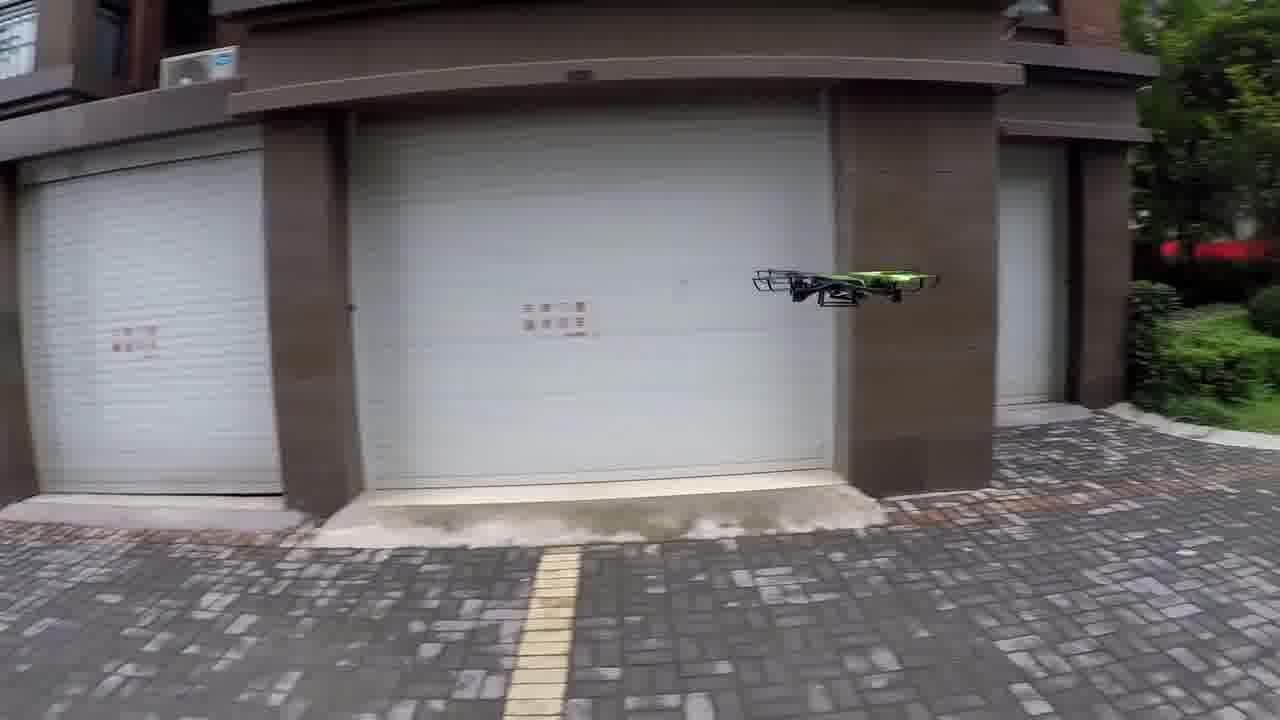drone: (736, 255, 944, 320)
